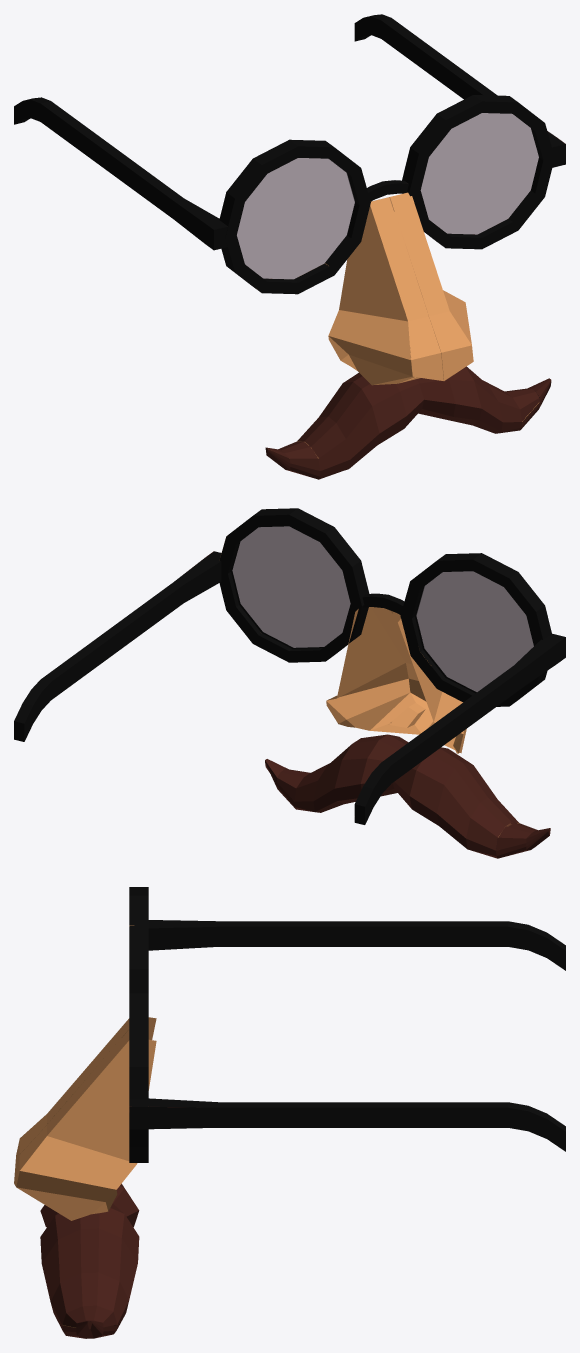
The model's file is MSH_Lentes1.fbx.
3 renders of one model, top to bottom at view 1: azimuth 30°, elevation 25°; view 2: azimuth 150°, elevation 25°; view 3: azimuth 270°, elevation 25°, orthographic. The views are drawn at different scales.
Parts seen in each view (by area): view 1: MSH_Lentes; view 2: MSH_Lentes; view 3: MSH_Lentes.
Part boxes in pixels (<box>): MSH_Lentes: <box>14,14,565,479</box>; MSH_Lentes: <box>14,508,565,858</box>; MSH_Lentes: <box>14,887,565,1338</box>.
Bounding box in the file's own units: 56.11 × 47.21 × 69.97.
Materials: 1 (1 with a texture image).
